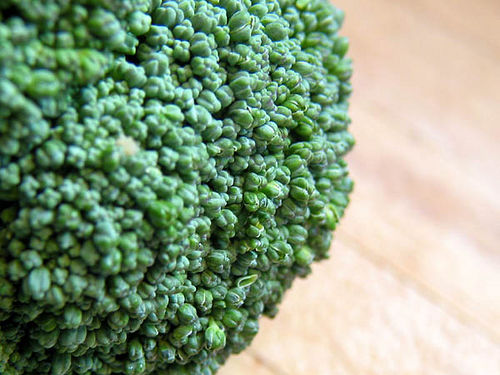broccoli: (1, 0, 354, 374)
